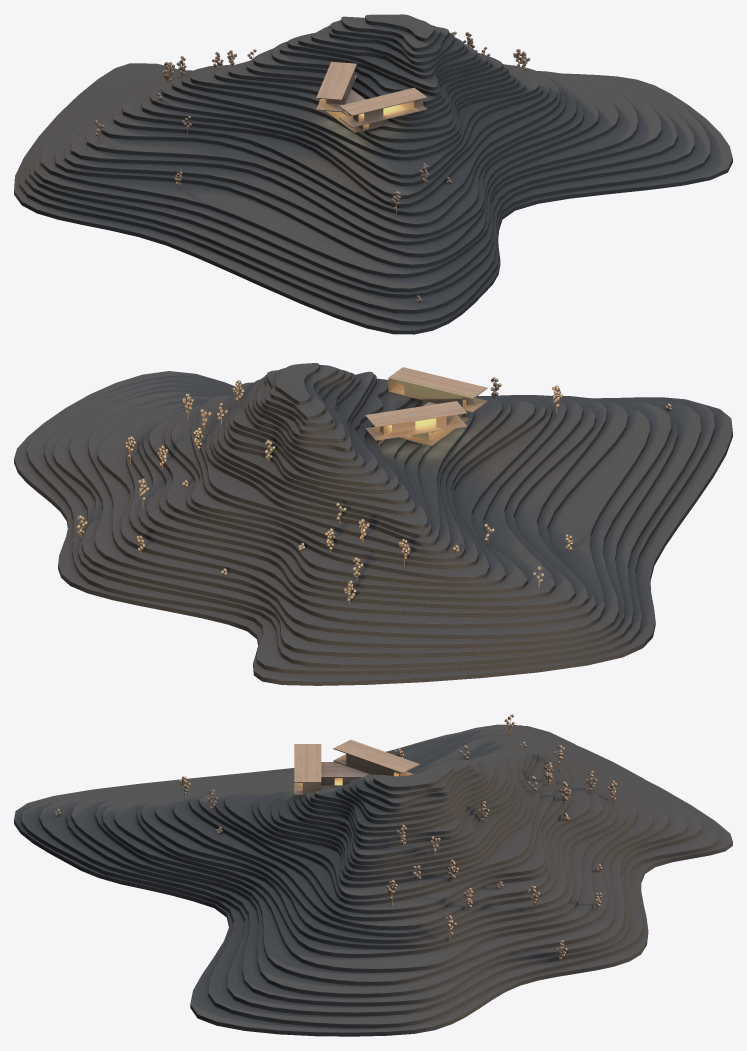
File: final_glow_x.gltf
The picture shows the model from 3 angles, top to bottom: view 1: azimuth 30°, elevation 25°; view 2: azimuth 150°, elevation 25°; view 3: azimuth 270°, elevation 25°; orthographic projection. The views are drawn at different scales.
Visible parts, largest first — view 1: hill, house, trees; view 2: hill, house, trees; view 3: hill, house, trees.
Part boxes in pixels (x1=…): hill: x1=14, y1=14, x2=732, y2=334; house: x1=316, y1=61, x2=427, y2=133; trees: x1=95, y1=31, x2=530, y2=302; hill: x1=14, y1=363, x2=732, y2=685; house: x1=365, y1=367, x2=487, y2=445; trees: x1=77, y1=377, x2=671, y2=604; hill: x1=14, y1=724, x2=732, y2=1036; house: x1=294, y1=739, x2=419, y2=795; trees: x1=54, y1=714, x2=616, y2=960.
Size of the model in its own units: 7.99 by 1.6 by 7.99.
3 materials, 3 textured.
